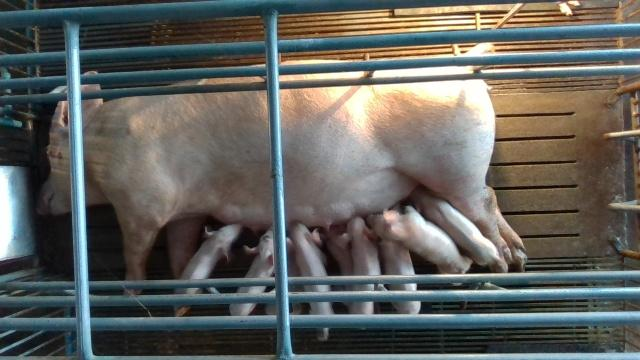piglet: (366, 209, 473, 285), (410, 187, 499, 266), (368, 217, 421, 313), (177, 225, 243, 295), (286, 222, 332, 316), (229, 224, 273, 316), (334, 217, 382, 291), (323, 229, 353, 291)
sow-sleep-lactate: (36, 42, 528, 294)
